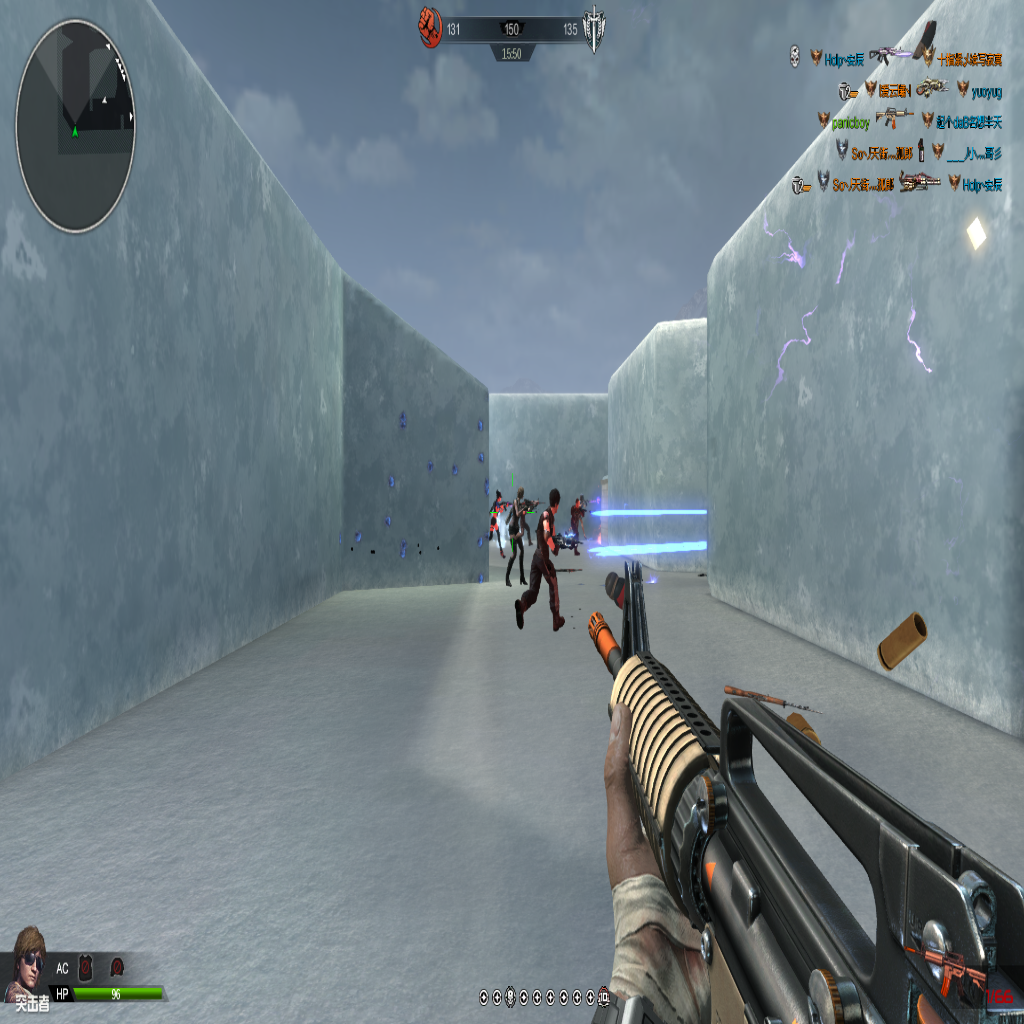ct: (514, 489, 570, 636), (503, 486, 535, 586), (489, 489, 508, 556), (572, 494, 587, 545)
